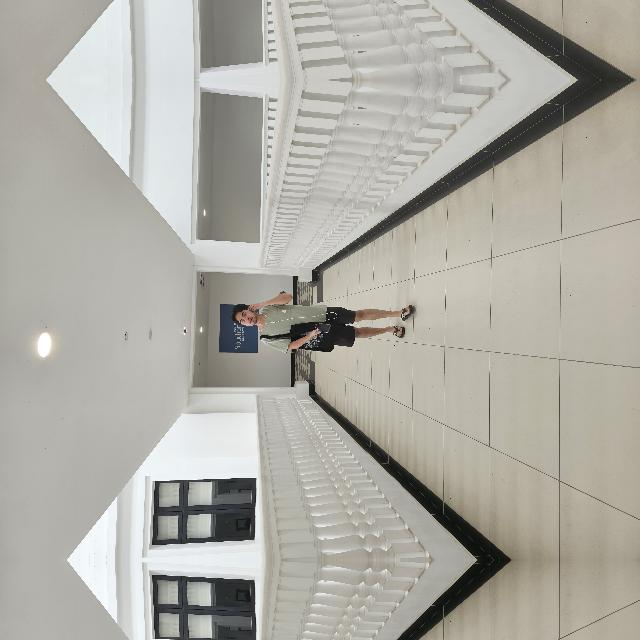person: (206, 311, 268, 493), (206, 627, 267, 640)
